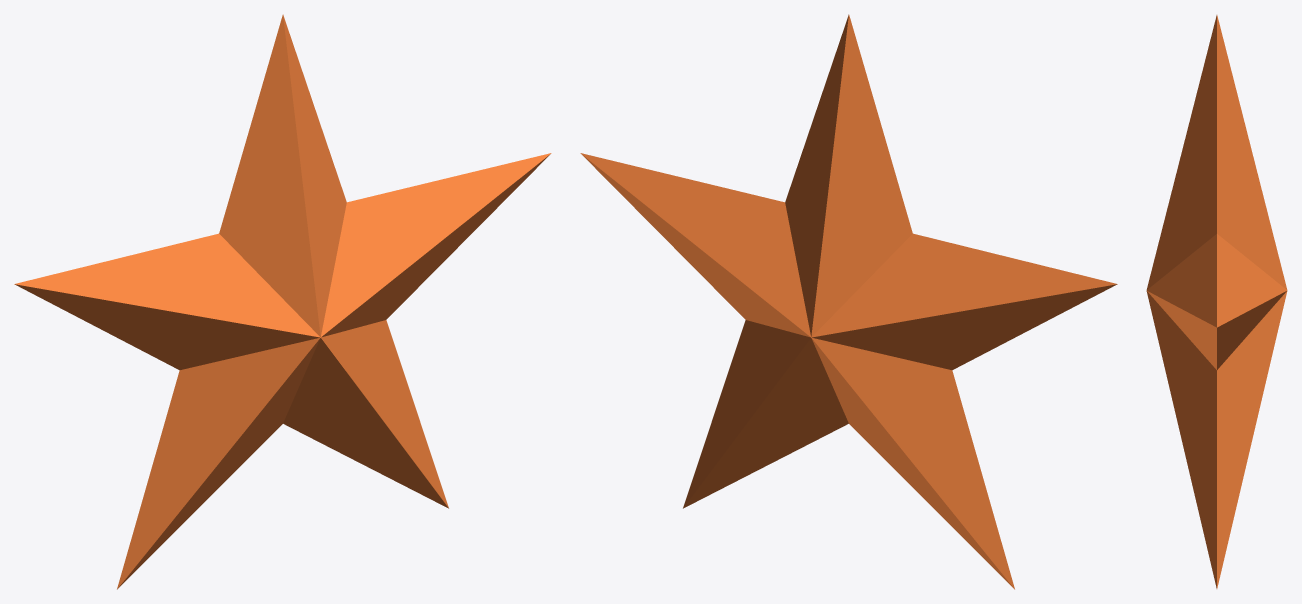
File: orangestar.glb
3 views of the same model, side by side, from view 1: azimuth 30°, elevation 25°; view 2: azimuth 150°, elevation 25°; view 3: azimuth 270°, elevation 25° (orthographic). The views are drawn at different scales.
Visible parts, largest first — view 1: Circle.001_Circle.007; view 2: Circle.001_Circle.007; view 3: Circle.001_Circle.007.
Part boxes in pixels (x1=…): Circle.001_Circle.007: x1=14, y1=14, x2=551, y2=589; Circle.001_Circle.007: x1=580, y1=14, x2=1117, y2=589; Circle.001_Circle.007: x1=1146, y1=15, x2=1287, y2=588.
Size of the model in its own units: 10.44 by 9.93 by 2.54.
